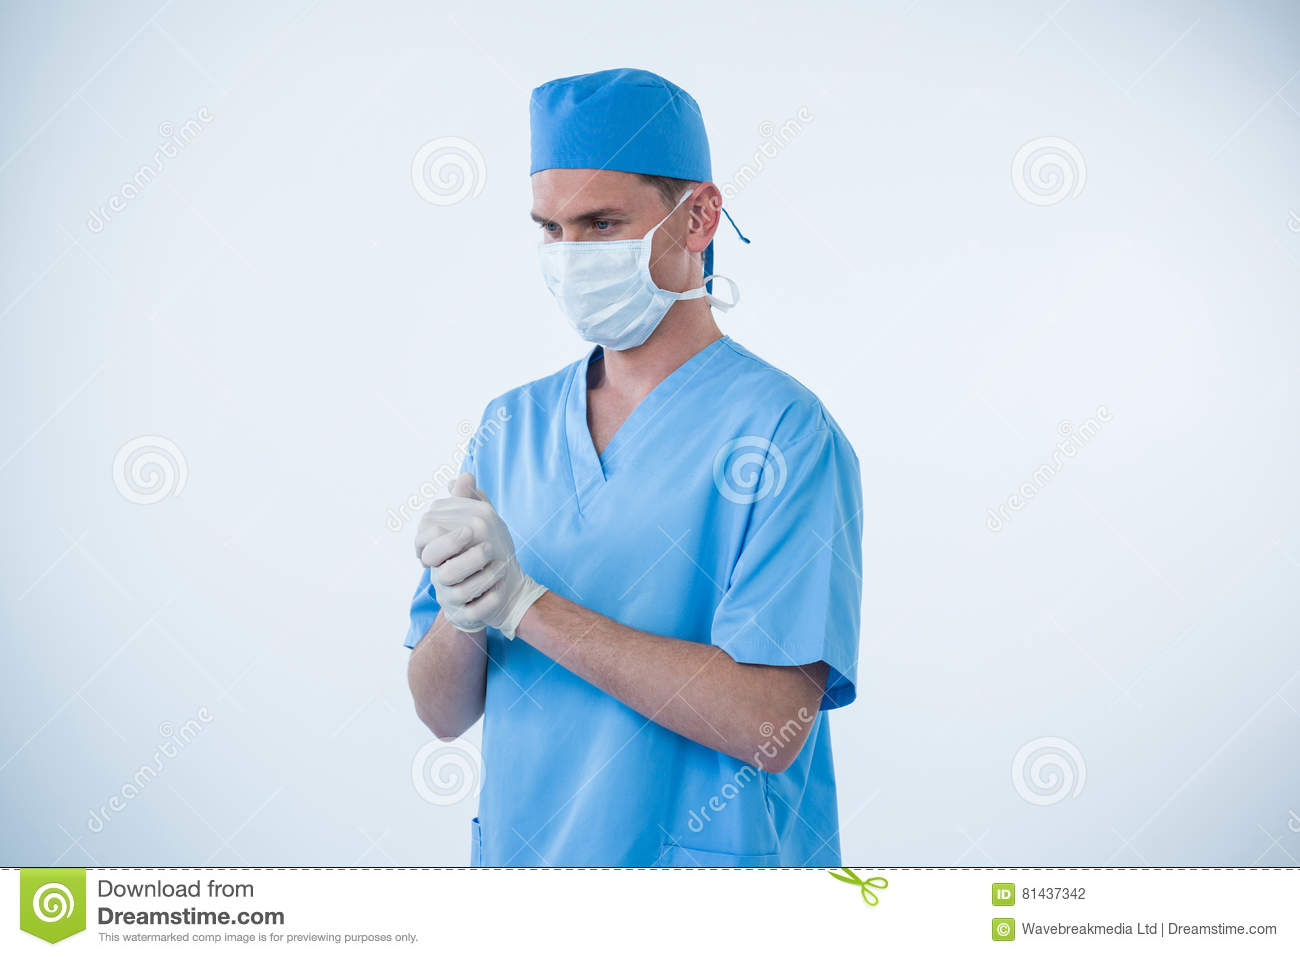mask: (528, 235, 673, 357)
